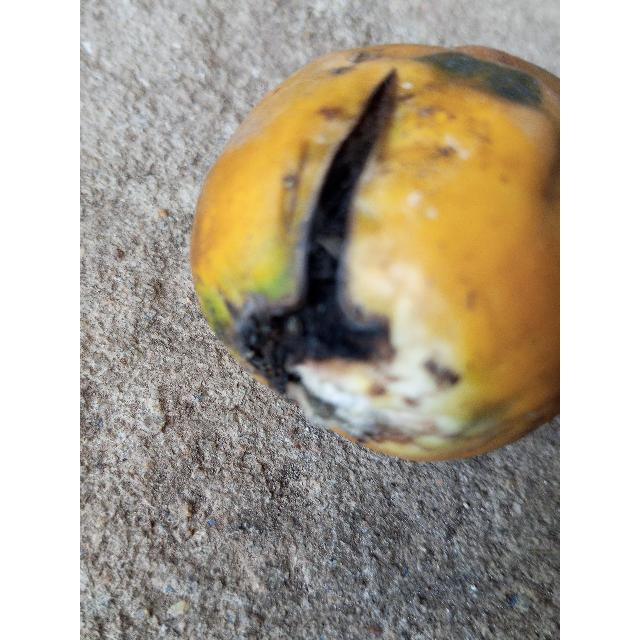damaged: (190, 45, 560, 465)
